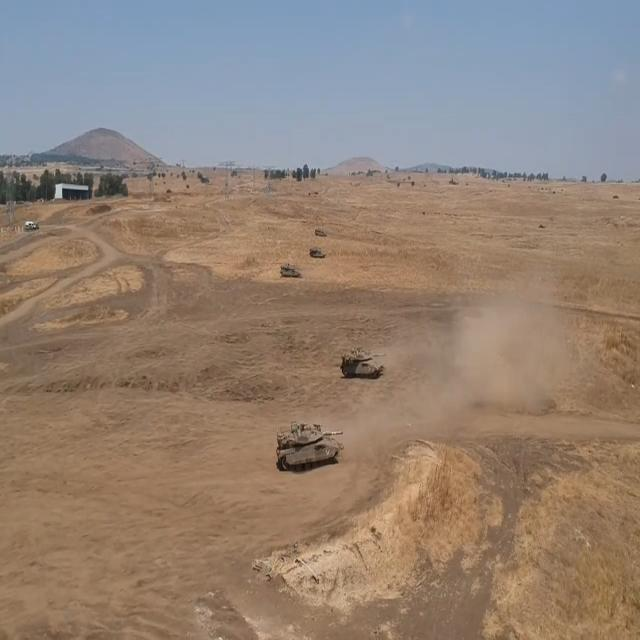tank: (274, 423, 354, 468), (343, 343, 388, 383), (280, 259, 305, 284), (306, 240, 329, 262), (314, 222, 327, 238)
